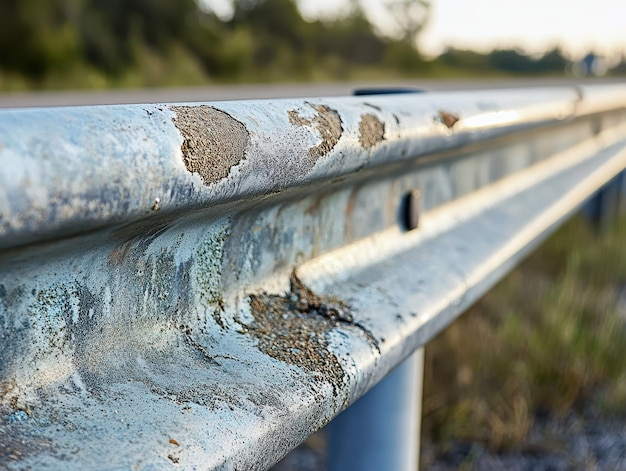damaged: (124, 92, 426, 403)
